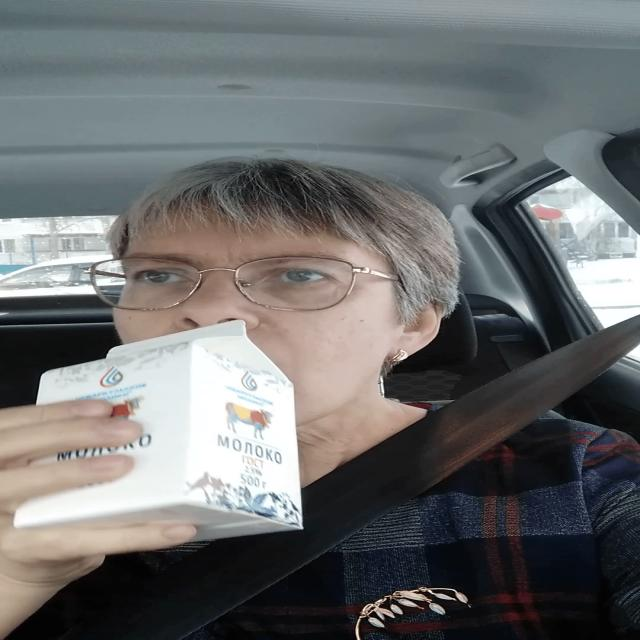3: (313, 340, 617, 559)
Seatbelt: (14, 326, 306, 547)
